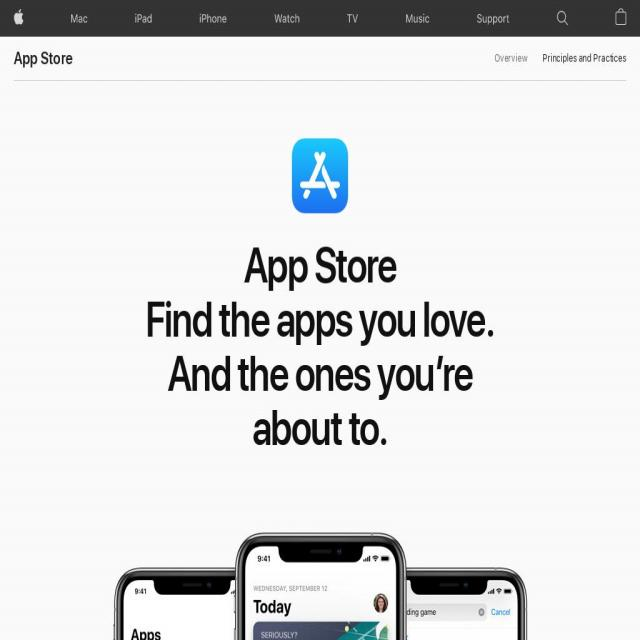navigation-links: (62, 5, 520, 32), (484, 44, 634, 78)
search: (550, 5, 574, 35)
